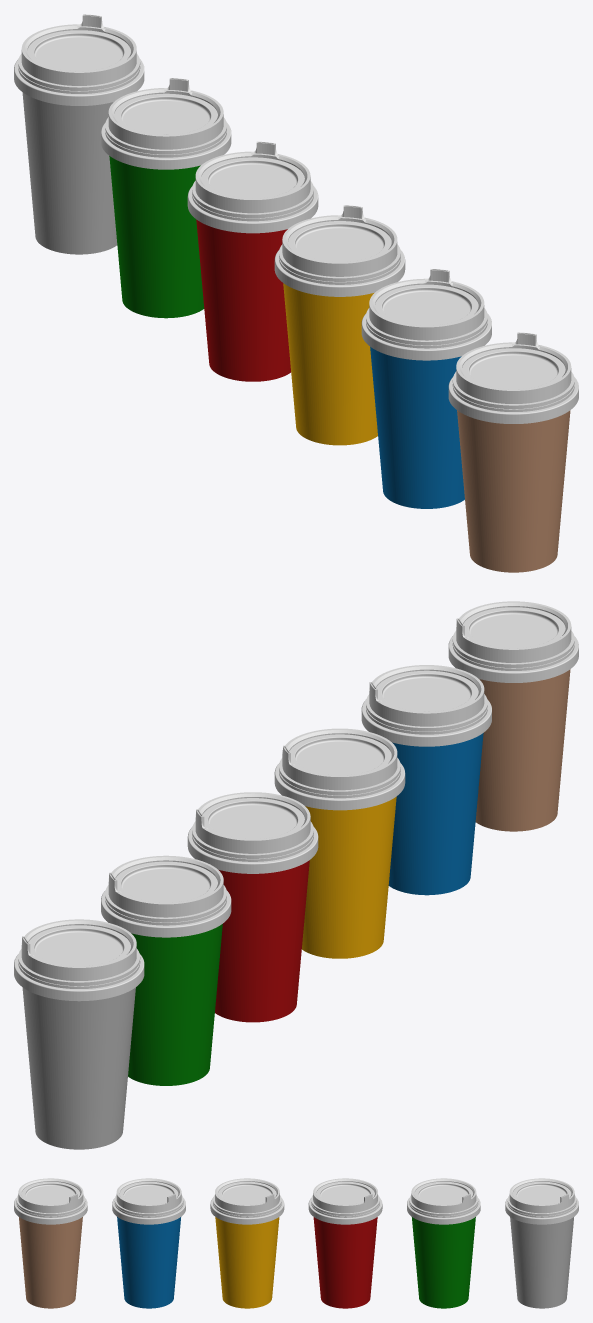
The model's file is glasses.fbx.
The picture shows the model from 3 angles, top to bottom: view 1: azimuth 30°, elevation 25°; view 2: azimuth 150°, elevation 25°; view 3: azimuth 270°, elevation 25°; orthographic projection. The views are drawn at different scales.
Parts seen in each view (by area): view 1: glass, glass.002, glass.003, glass.001, glass.005, glass.004; view 2: glass.005, glass.003, glass.002, glass, glass.004, glass.001; view 3: glass, glass.001, glass.004, glass.005, glass.002, glass.003.
Part boxes in pixels (x1,y1,x2,y2): glass: (448,332,578,572); glass.002: (274,205,405,445); glass.003: (187,141,318,381); glass.001: (361,269,491,508); glass.005: (14,14,144,254); glass.004: (101,78,231,318); glass.005: (14,919,144,1149); glass.003: (187,792,318,1022); glass.002: (274,728,405,958); glass: (448,601,578,831); glass.004: (101,855,231,1085); glass.001: (361,665,491,895); glass: (14,1178,87,1308); glass.001: (112,1178,185,1308); glass.004: (407,1178,480,1308); glass.005: (505,1178,578,1308); glass.002: (210,1178,284,1308); glass.003: (308,1178,382,1308).
Size of the model in its own units: 225 by 376 by 1725.
